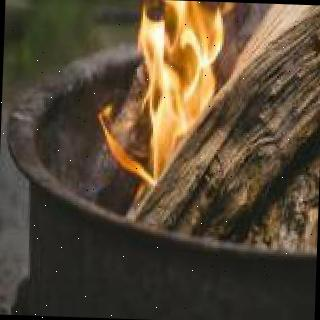fire: (109, 0, 229, 188), (315, 5, 320, 173)
